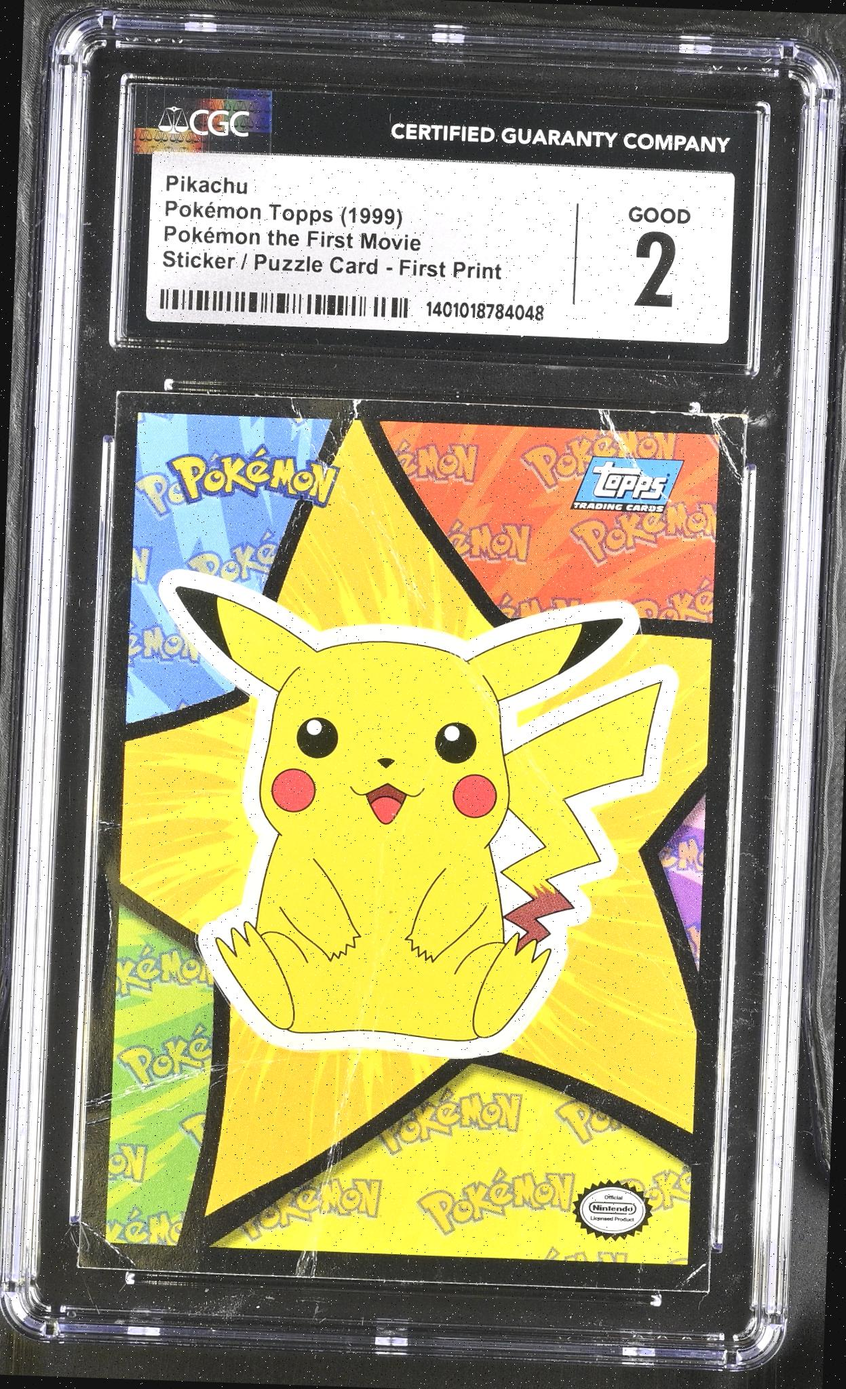card-2UtV: (76, 390, 748, 1293)
